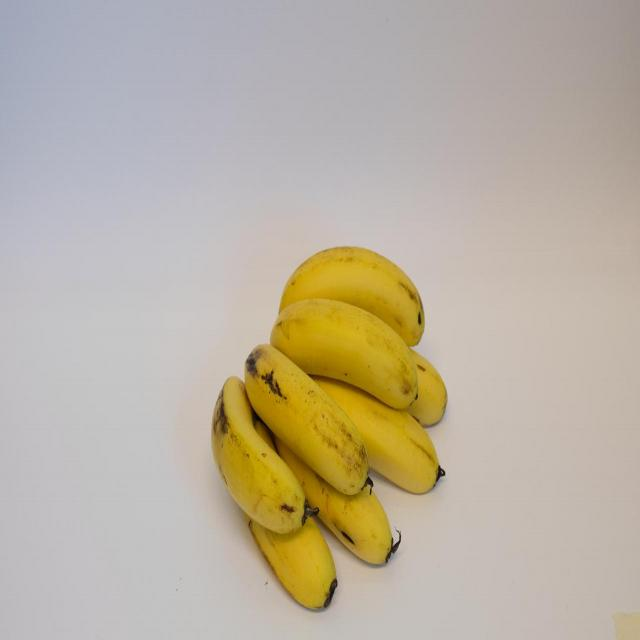banana: (176, 372, 308, 540), (238, 345, 374, 502), (269, 292, 426, 412), (278, 430, 404, 576), (282, 247, 434, 354), (320, 372, 442, 494)
